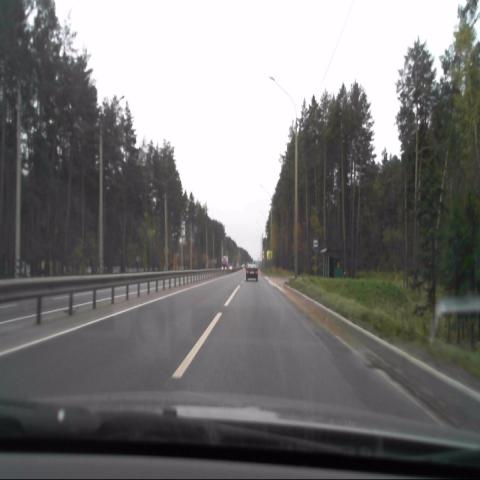5_16: (311, 234, 319, 253)
